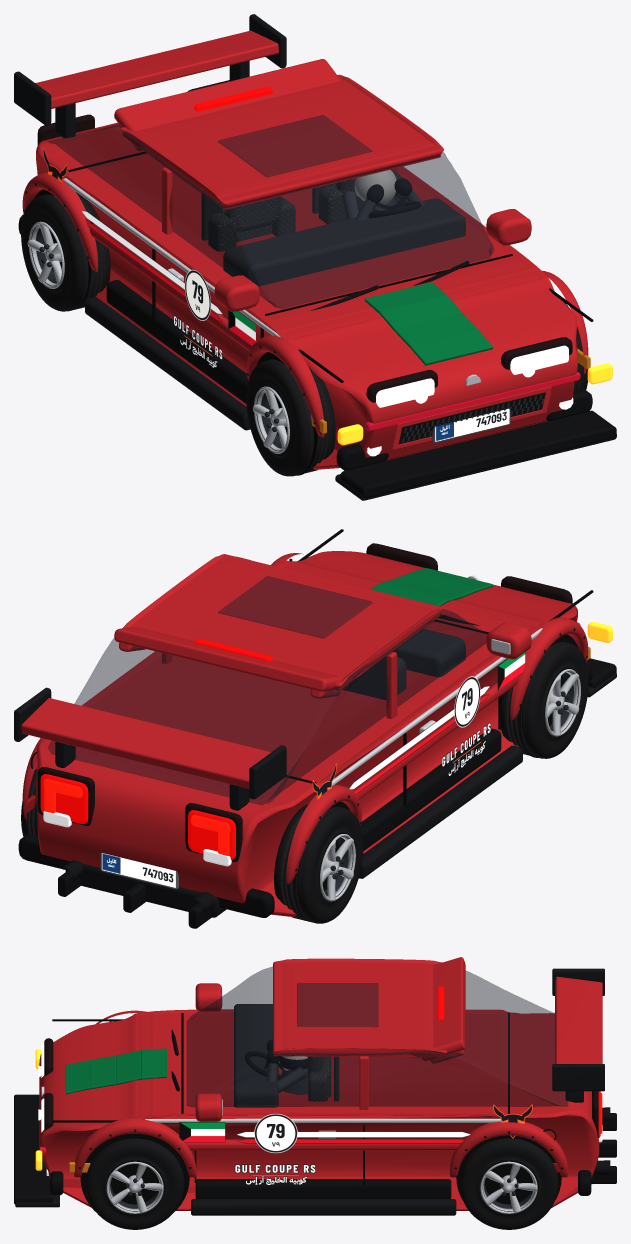
Rendered from gulf-coupe-rs.glb.
3 views of the same model, one above another, from view 1: azimuth 30°, elevation 25°; view 2: azimuth 150°, elevation 25°; view 3: azimuth 270°, elevation 25° (orthographic). The views are drawn at different scales.
Parts seen in each view (by area): view 1: object 1, object 2, object 3, object 116, object 107, object 150, object 28, object 25, object 156, object 56, face, object 154 (+34 smaller); view 2: object 1, object 2, object 3, object 150, object 56, object 25, tail-lamps, object 28, object 156, object 154, object 96, object 116 (+25 smaller); view 3: object 1, object 2, object 3, object 102, object 42, object 70, object 155, object 150, object 116, object 25, object 107, object 156 (+23 smaller).
Boxes of the visible parts, x1,y1,x2,y2 form: object 1: (36, 122, 577, 469); object 2: (48, 124, 494, 308); object 3: (120, 74, 443, 209); object 116: (223, 198, 465, 286); object 107: (340, 410, 616, 498); object 150: (35, 30, 278, 108); object 28: (246, 359, 335, 476); object 25: (218, 115, 372, 177); object 156: (114, 59, 340, 150); object 56: (21, 192, 110, 311); face: (365, 371, 580, 450); object 154: (85, 297, 250, 430); object 1: (36, 551, 577, 916); object 2: (48, 609, 487, 805); object 3: (123, 554, 443, 691); object 150: (21, 698, 271, 788); object 56: (274, 804, 363, 923); object 25: (218, 576, 372, 638); tail-lamps: (37, 767, 242, 861); object 28: (501, 642, 588, 758); object 156: (114, 627, 348, 691); object 154: (359, 745, 522, 878); object 96: (361, 728, 501, 850); object 116: (392, 629, 465, 677); object 1: (39, 1009, 599, 1210); object 2: (186, 966, 568, 1107); object 3: (273, 958, 447, 1057); object 102: (195, 1179, 451, 1198); object 42: (85, 1138, 184, 1229); object 70: (459, 1138, 558, 1229); object 155: (191, 1199, 456, 1215); object 150: (555, 976, 602, 1063); object 116: (234, 1004, 278, 1107); object 25: (297, 983, 378, 1027); object 107: (14, 1094, 53, 1204); object 156: (422, 957, 465, 1061).
Bounding box in the file's own units: 2.08 × 1.37 × 4.28.
Materials: 47 (10 with a texture image).
